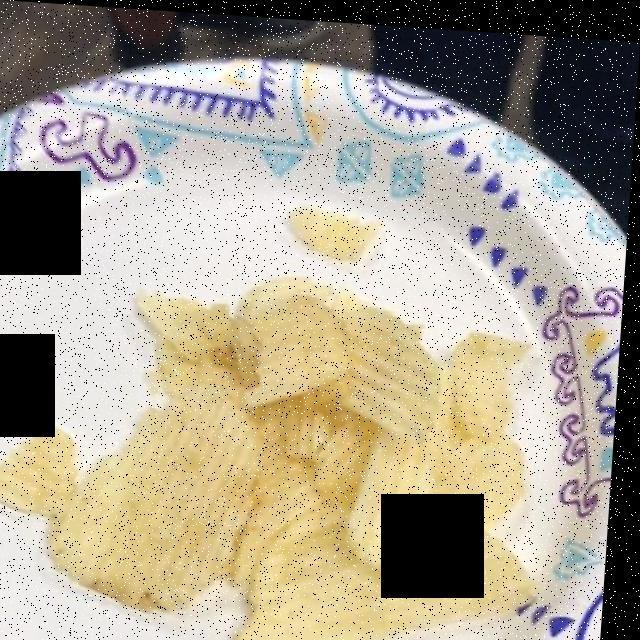crisps: (8, 274, 525, 635)
